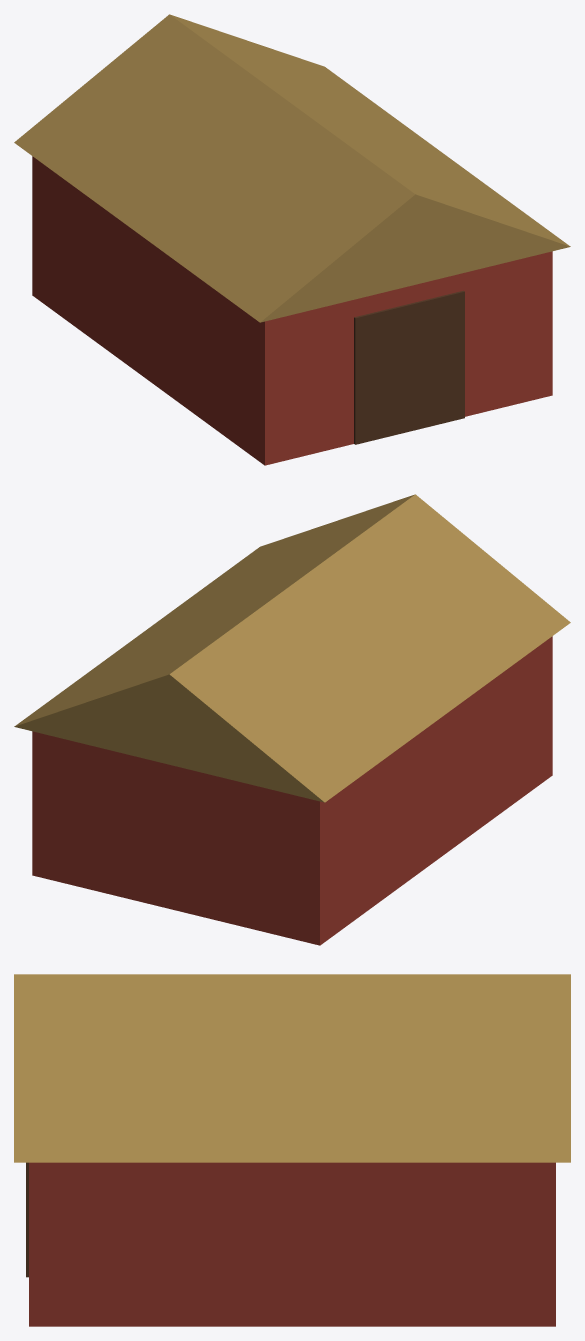
The model's file is barn.obj.
The picture shows the model from 3 angles, top to bottom: view 1: azimuth 30°, elevation 25°; view 2: azimuth 150°, elevation 25°; view 3: azimuth 270°, elevation 25°; orthographic projection. The views are drawn at different scales.
Parts seen in each view (by area): view 1: Cube; view 2: Cube; view 3: Cube.
Part boxes in pixels (x1,y1,x2,y2): Cube: [14, 14, 570, 465]; Cube: [14, 494, 570, 945]; Cube: [14, 974, 570, 1326].
Bounding box in the file's own units: 10.8 × 8 × 14.8.
